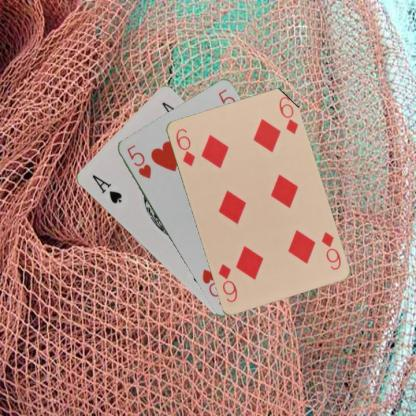5h: (124, 142, 152, 180)
6d: (318, 229, 342, 271), (173, 126, 196, 168)
As: (89, 172, 123, 205)
